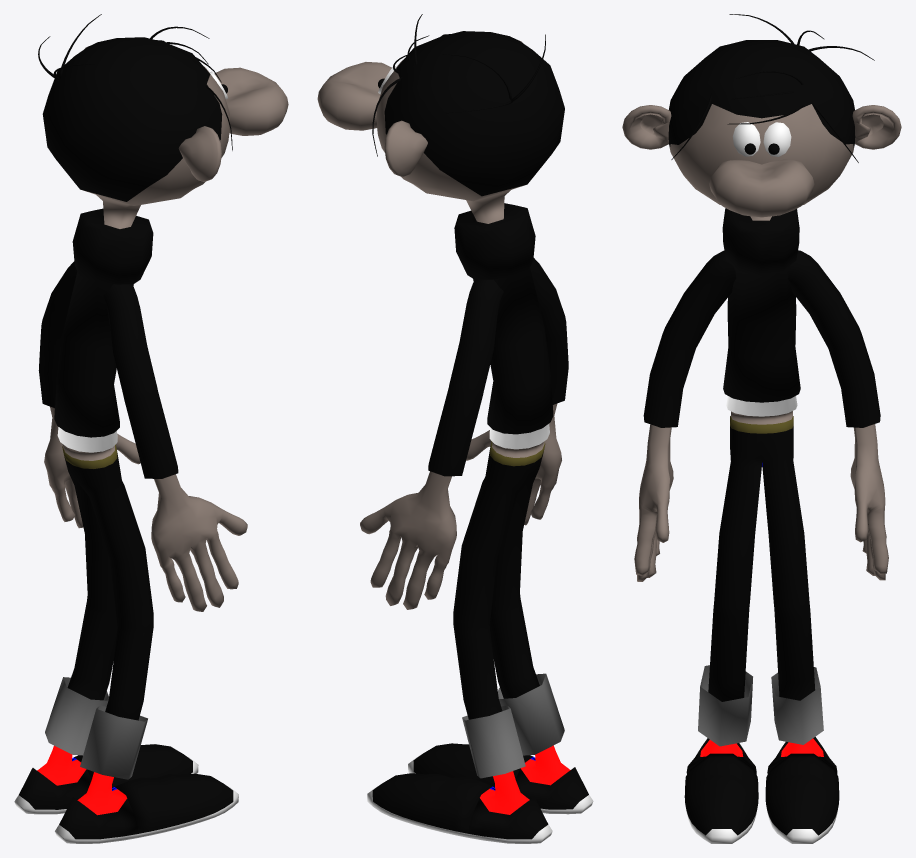
Rendered from spectator_black_tall.dae.
The picture shows the model from 3 angles, left to right: view 1: azimuth 30°, elevation 25°; view 2: azimuth 150°, elevation 25°; view 3: azimuth 270°, elevation 25°; orthographic projection.
Parts seen in each view (by area): view 1: Spectator; view 2: Spectator; view 3: Spectator.
Boxes of the visible parts, bbox=[...] form: Spectator: bbox=[14, 14, 288, 843]; Spectator: bbox=[317, 14, 593, 843]; Spectator: bbox=[622, 14, 901, 843].
Size of the model in its own units: 0.6596 by 0.662 by 2.
